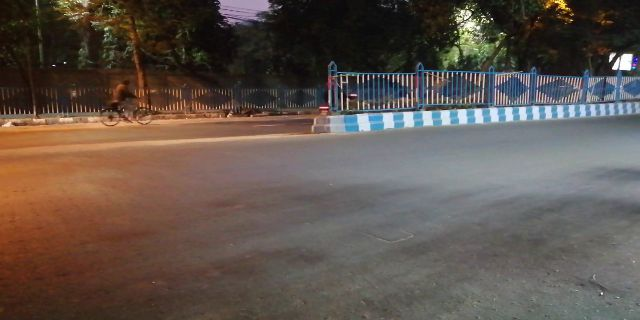Cycle: (100, 81, 159, 125)
